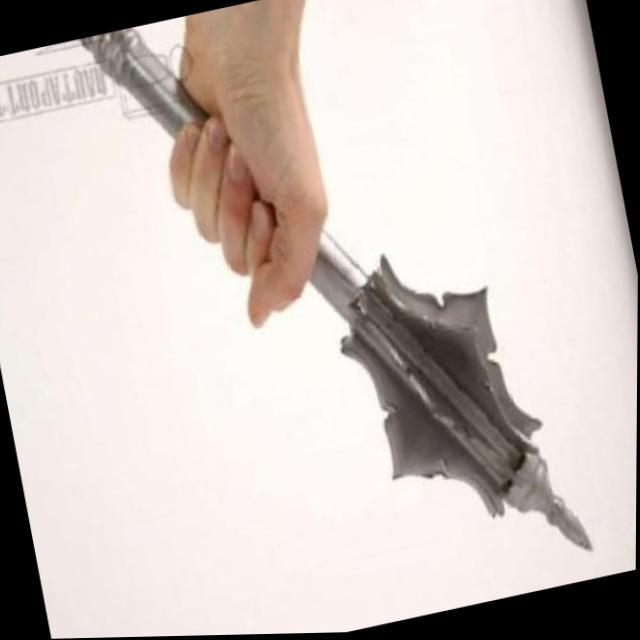weapon: (53, 0, 598, 639)
